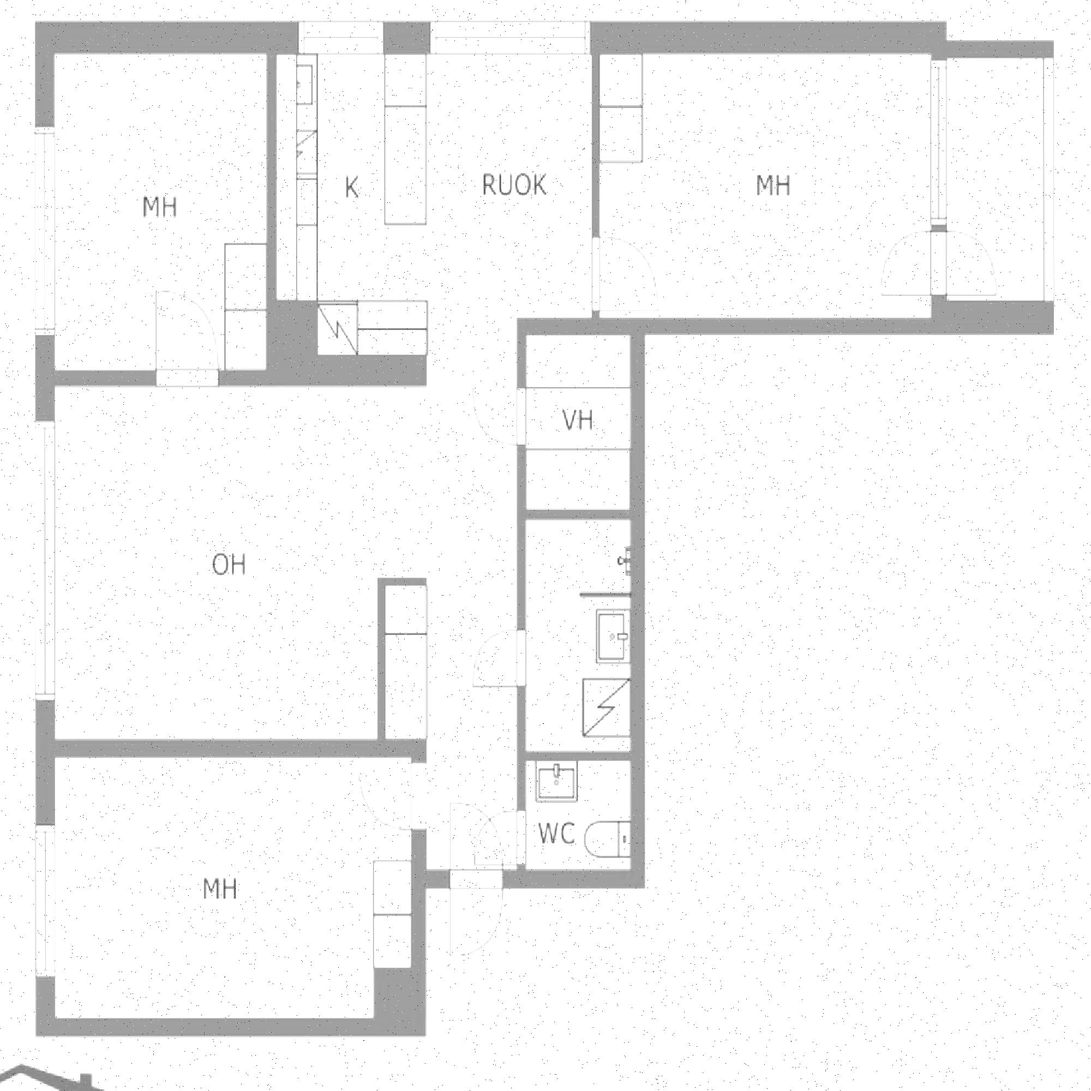wall: (36, 22, 947, 53), (36, 22, 54, 1036), (631, 316, 645, 890), (55, 738, 427, 757), (36, 1018, 426, 1036), (631, 316, 946, 333), (517, 316, 526, 872), (931, 22, 947, 334), (276, 355, 427, 386), (412, 871, 645, 889), (54, 371, 276, 387), (947, 301, 1054, 333), (267, 52, 276, 386), (412, 871, 426, 1036), (276, 302, 317, 355), (517, 316, 631, 335), (947, 39, 1054, 58), (412, 738, 427, 871), (374, 967, 412, 1019), (593, 53, 600, 317), (378, 577, 385, 738), (526, 510, 631, 520), (526, 752, 631, 761), (378, 577, 427, 586)
